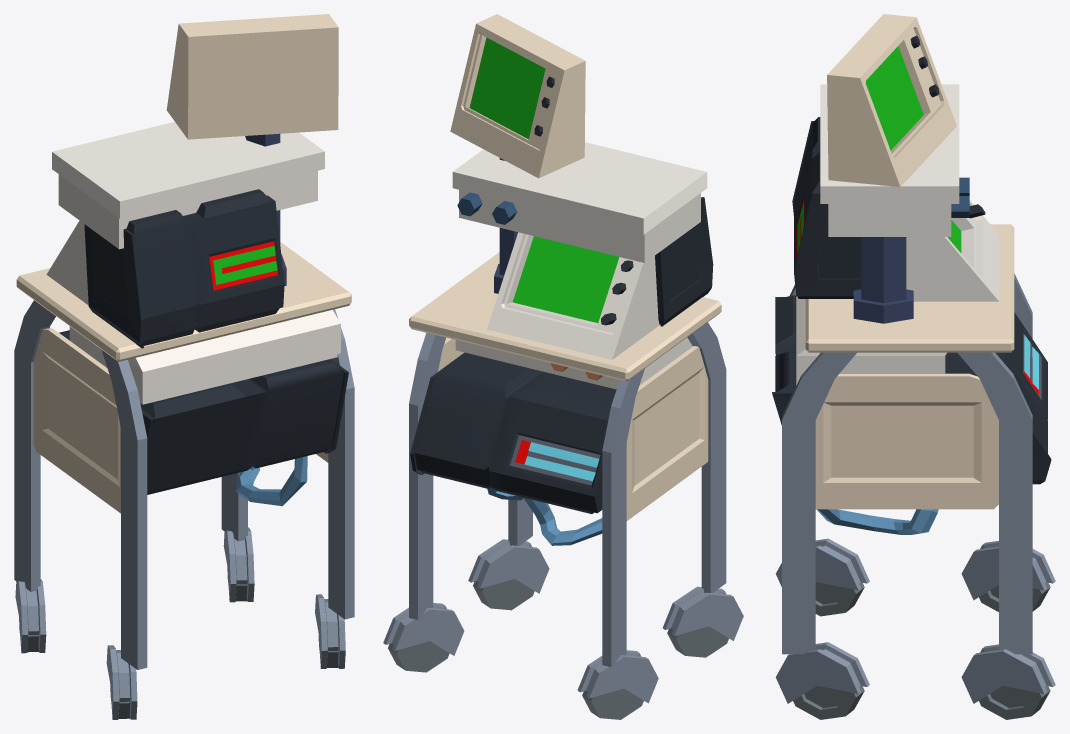
Rendered from g_o_IntensiveCareUnit.fbx.
3 views of the same model, side by side, from view 1: azimuth 30°, elevation 25°; view 2: azimuth 150°, elevation 25°; view 3: azimuth 270°, elevation 25° (orthographic). The views are drawn at different scales.
Visible parts, largest first — view 1: IntensiceCareUnit2; view 2: IntensiceCareUnit2; view 3: IntensiceCareUnit2.
Part boxes in pixels (box(x1,y1,x2,y2)): IntensiceCareUnit2: box(14, 14, 354, 719); IntensiceCareUnit2: box(383, 14, 743, 719); IntensiceCareUnit2: box(772, 14, 1055, 719).
Size of the model in its own units: 74.15 by 173 by 68.66.
